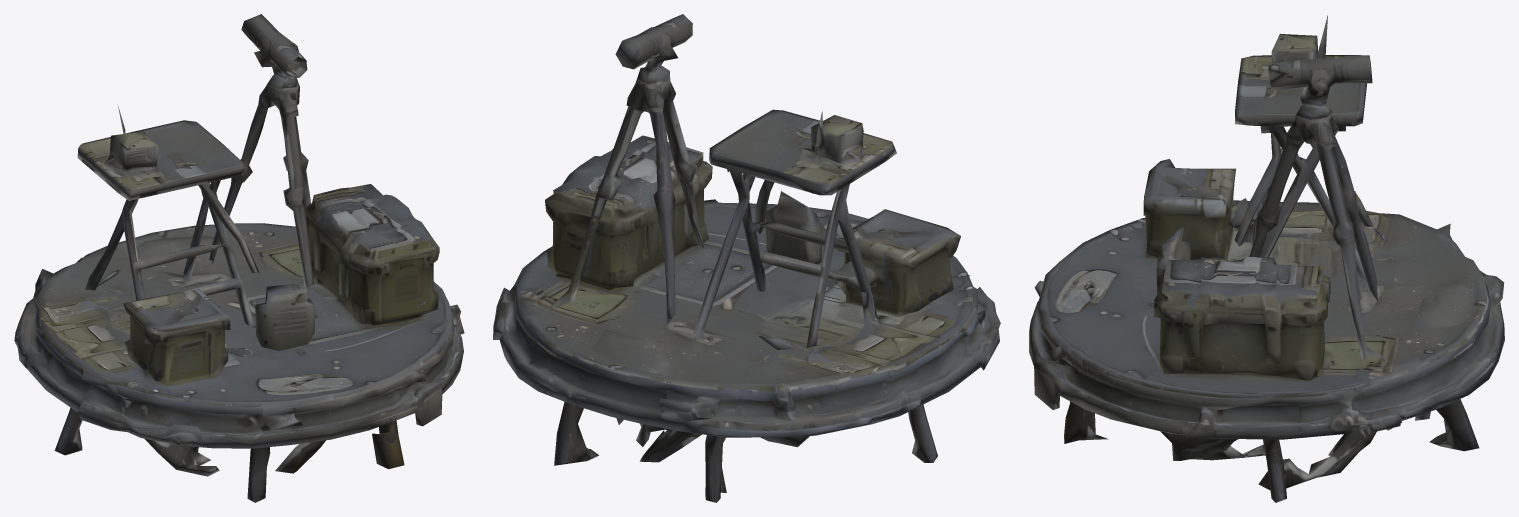
The model's file is 狙击瞭望台.glb.
The picture shows the model from 3 angles, left to right: view 1: azimuth 30°, elevation 25°; view 2: azimuth 150°, elevation 25°; view 3: azimuth 270°, elevation 25°; orthographic projection. The views are drawn at different scales.
Parts seen in each view (by area): view 1: tripo_node_0605c4ca-1235-4dc2-a27f-32aaba408724; view 2: tripo_node_0605c4ca-1235-4dc2-a27f-32aaba408724; view 3: tripo_node_0605c4ca-1235-4dc2-a27f-32aaba408724.
Boxes of the visible parts, x1,y1,x2,y2 form: tripo_node_0605c4ca-1235-4dc2-a27f-32aaba408724: (14,14,464,502); tripo_node_0605c4ca-1235-4dc2-a27f-32aaba408724: (493,14,1000,502); tripo_node_0605c4ca-1235-4dc2-a27f-32aaba408724: (1029,15,1504,502).
Size of the model in its own units: 1 by 0.8765 by 0.9879.
1 material, 1 textured.
